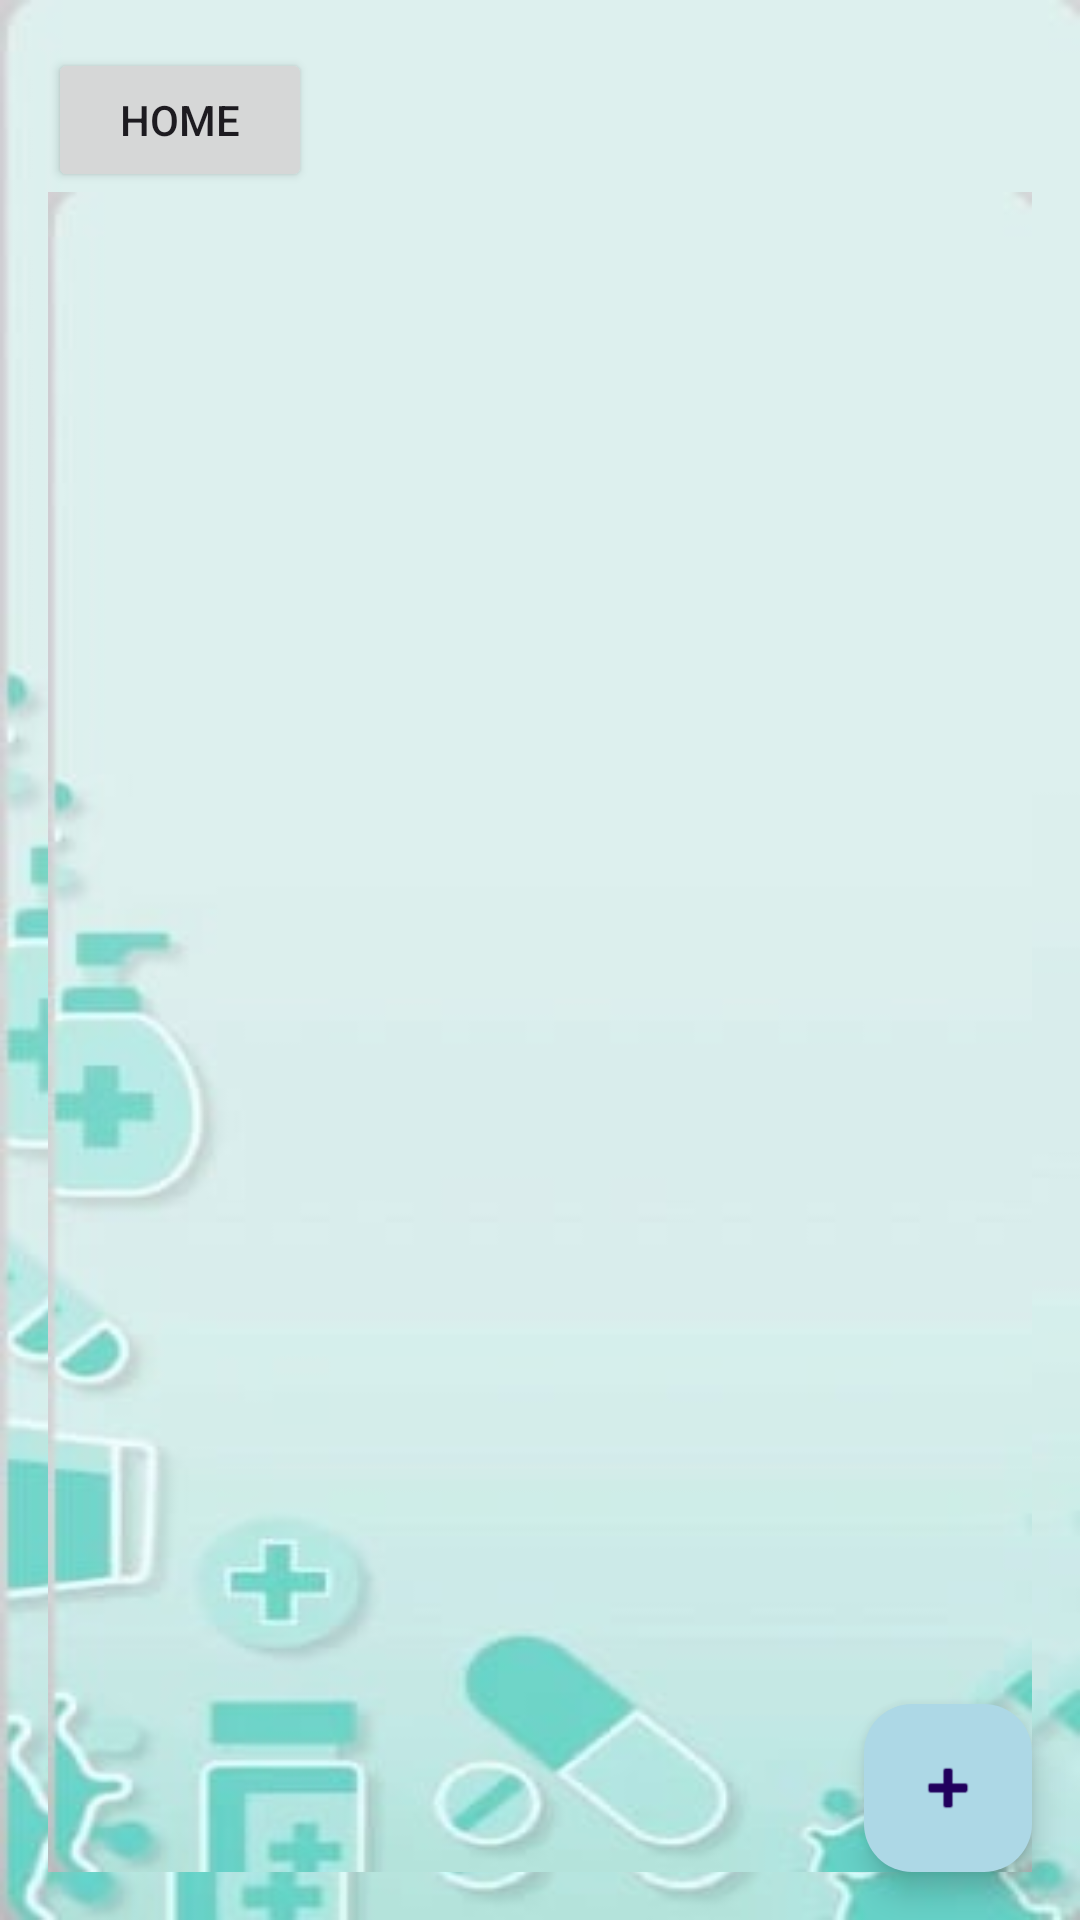

Point at icon controls on the screen. Image size 1080w x 1920h, points as point (x, y).
Add Medication: point (948, 1788)
